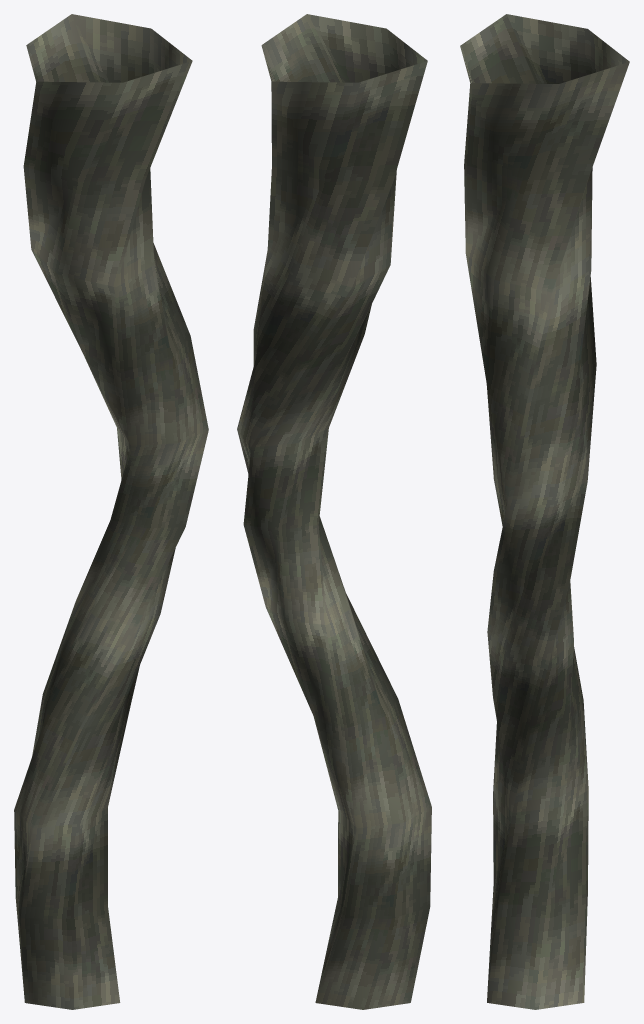
File: INST_TROLLHOLE_ROOTC.fbx
3 renders of one model, left to right at view 1: azimuth 30°, elevation 25°; view 2: azimuth 150°, elevation 25°; view 3: azimuth 270°, elevation 25°, orthographic. The views are drawn at different scales.
Parts seen in each view (by area): view 1: INST_TROLLHOLE_ROOTC; view 2: INST_TROLLHOLE_ROOTC; view 3: INST_TROLLHOLE_ROOTC.
Boxes of the visible parts, x1,y1,x2,y2 form: INST_TROLLHOLE_ROOTC: [14, 14, 208, 1009]; INST_TROLLHOLE_ROOTC: [237, 14, 431, 1009]; INST_TROLLHOLE_ROOTC: [460, 14, 629, 1009].
Size of the model in its own units: 12390 by 60507 by 9788.
Materials: 1 (1 with a texture image).
